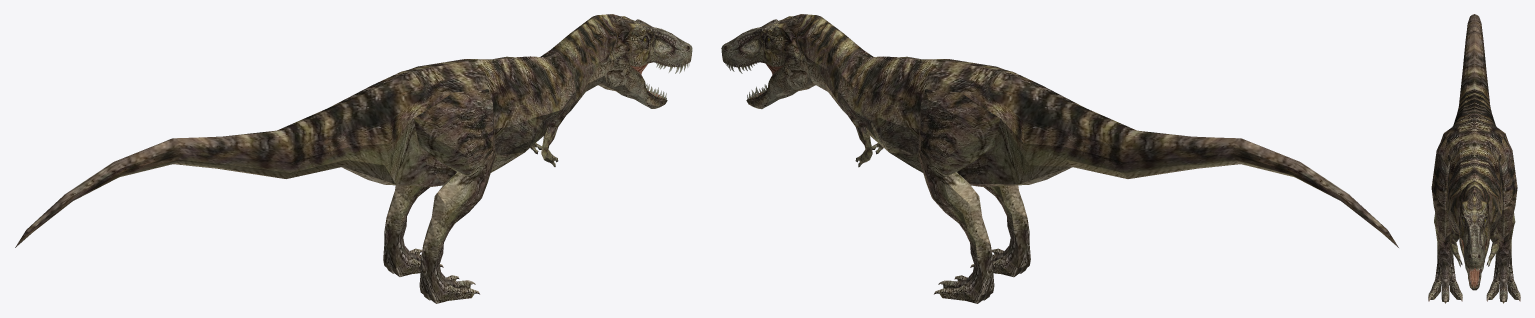
File: dinosaur.glb
3 renders of one model, left to right at view 1: azimuth 30°, elevation 25°; view 2: azimuth 150°, elevation 25°; view 3: azimuth 270°, elevation 25°, orthographic. The views are drawn at different scales.
Bounding box in the file's own units: 2.5 × 0.7916 × 0.3719.
1 material, 1 textured.
